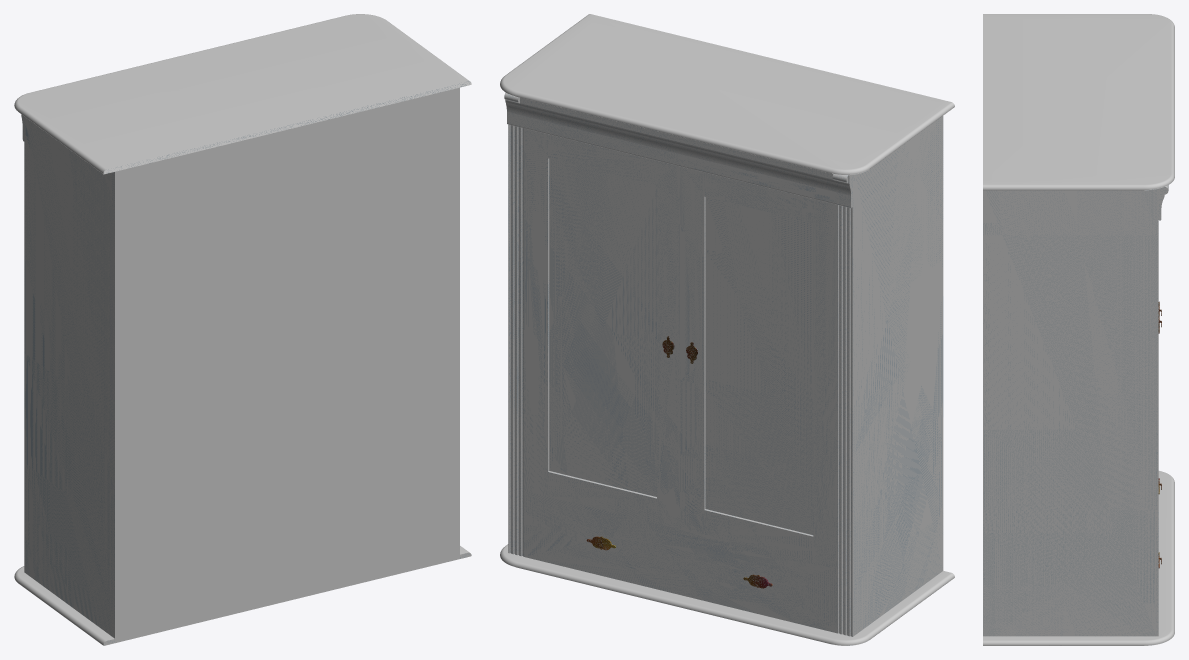
The picture shows the model from 3 angles, left to right: view 1: azimuth 30°, elevation 25°; view 2: azimuth 150°, elevation 25°; view 3: azimuth 270°, elevation 25°; orthographic projection. The views are drawn at different scales.
Visible parts, largest first — view 1: SketchUp (×5); view 2: SketchUp (×3); view 3: SketchUp (×3).
Boxes of the visible parts, bbox=[...] form: SketchUp (×5): bbox=[14, 14, 471, 644]; SketchUp (×3): bbox=[500, 14, 954, 645]; SketchUp (×3): bbox=[983, 14, 1174, 645].
Size of the model in its own units: 18.33 by 8.57 by 22.65.
